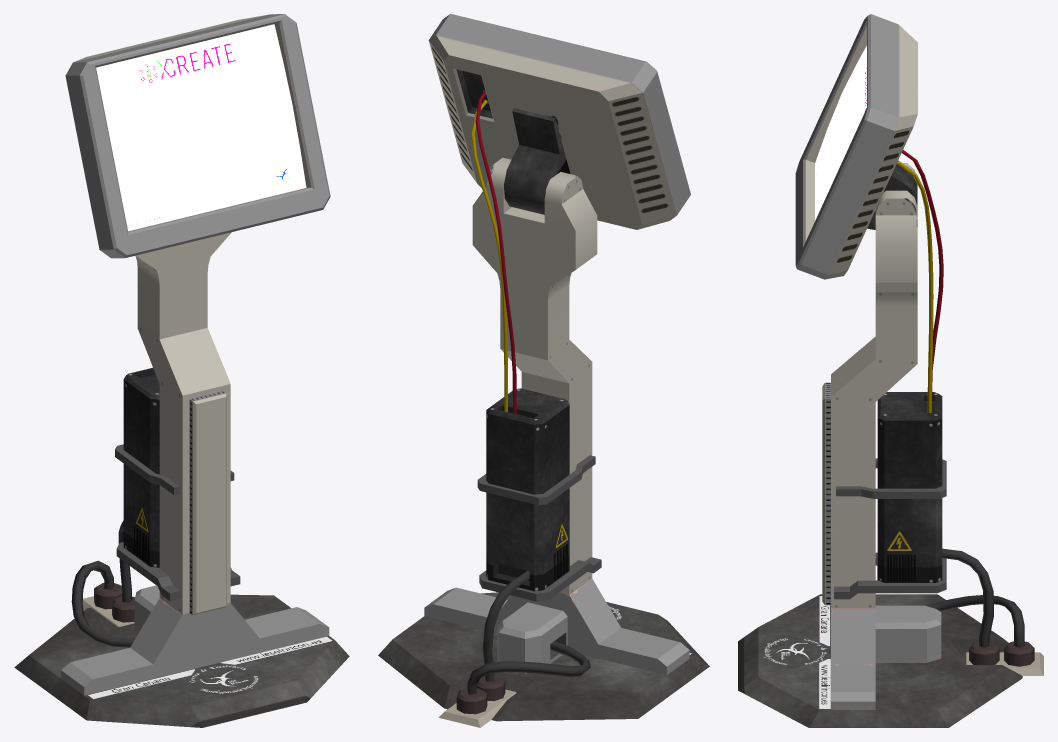
The picture shows the model from 3 angles, left to right: view 1: azimuth 30°, elevation 25°; view 2: azimuth 150°, elevation 25°; view 3: azimuth 270°, elevation 25°; orthographic projection. The views are drawn at different scales.
Parts seen in each view (by area): view 1: pCube4, pCube14, Monitor, pCube5, PowerWire_1, pCube6, PowerWire_2, pCube7, pCube12; view 2: pCube4, Monitor, pCube5, pCube12, PowerWire_1, PowerWire_2, pCube6, pCube7, pCube11, pCube8, pCube9; view 3: pCube4, Monitor, pCube5, pCube12, pCube14, PowerWire_2, PowerWire_1, pCube6, pCube7, pCube8, pCube11, pCube9.
Boxes of the visible parts, box(x1,y1,x2,y2) form: pCube4: box(14, 232, 349, 727); pCube14: box(96, 24, 306, 231); Monitor: box(65, 14, 330, 258); pCube5: box(123, 367, 159, 567); PowerWire_1: box(71, 560, 135, 647); pCube6: box(116, 542, 240, 601); PowerWire_2: box(112, 520, 134, 622); pCube7: box(115, 444, 234, 494); pCube12: box(134, 585, 159, 636); pCube4: box(378, 157, 709, 721); Monitor: box(428, 14, 690, 229); pCube5: box(486, 388, 569, 591); pCube12: box(497, 602, 567, 673); PowerWire_1: box(456, 641, 590, 714); PowerWire_2: box(476, 571, 529, 701); pCube6: box(479, 557, 601, 601); pCube7: box(477, 455, 595, 505); pCube11: box(475, 91, 516, 414); pCube8: box(471, 100, 507, 412); pCube9: box(438, 689, 516, 727); pCube4: box(738, 163, 1022, 727); Monitor: box(795, 14, 917, 279); pCube5: box(877, 392, 942, 582); pCube12: box(875, 605, 941, 662); pCube14: box(815, 46, 866, 220); PowerWire_2: box(942, 548, 999, 664); PowerWire_1: box(926, 595, 1034, 666); pCube6: box(834, 552, 946, 599); pCube7: box(836, 458, 946, 498); pCube8: box(897, 161, 933, 412); pCube11: box(902, 150, 943, 409); pCube9: box(962, 652, 1043, 675).
Size of the model in its own units: 1.82 by 4.14 by 1.9.
2 materials, 2 textured.
